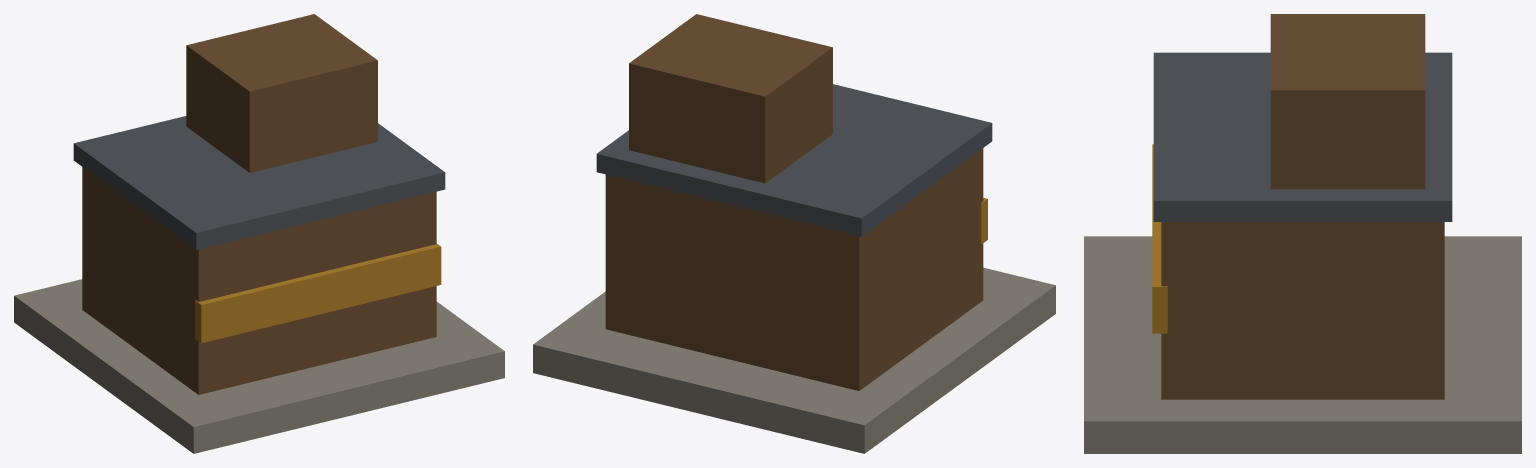
Rendered from RF_Structure_DepotAmmo_Intact.glb.
3 renders of one model, left to right at view 1: azimuth 30°, elevation 25°; view 2: azimuth 150°, elevation 25°; view 3: azimuth 270°, elevation 25°, orthographic. The views are drawn at different scales.
Visible parts, largest first — view 1: RF_Structure_DepotAmmo_Intact; view 2: RF_Structure_DepotAmmo_Intact; view 3: RF_Structure_DepotAmmo_Intact.
Boxes of the visible parts, <box> form: RF_Structure_DepotAmmo_Intact: <box>14,14,504,453</box>; RF_Structure_DepotAmmo_Intact: <box>533,14,1055,453</box>; RF_Structure_DepotAmmo_Intact: <box>1084,14,1521,453</box>.
Bounding box in the file's own units: 3.4 × 2.86 × 3.4.
